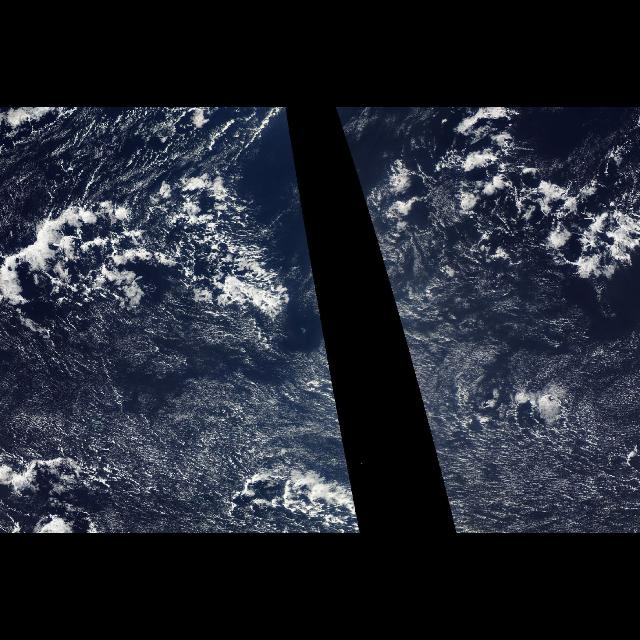Flower: (409, 108, 637, 296)
Gravel: (67, 108, 285, 326), (377, 112, 635, 282)
Sugar: (1, 338, 349, 516), (410, 301, 636, 529)
